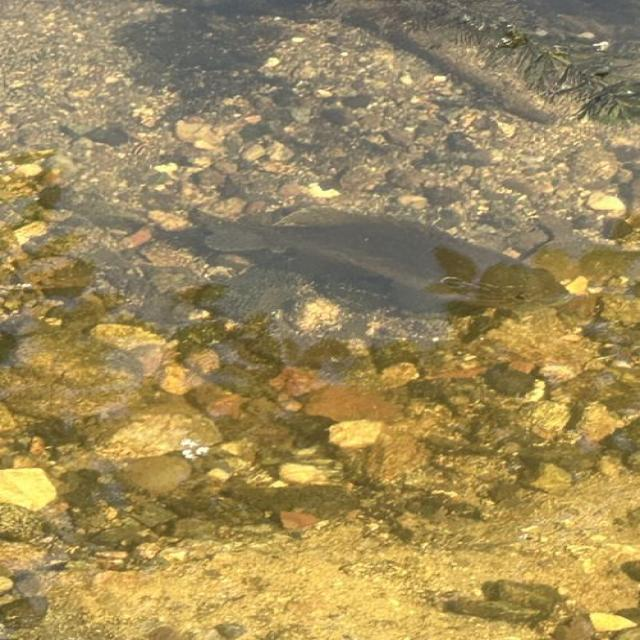Gunes Levregi: (179, 194, 578, 324)
